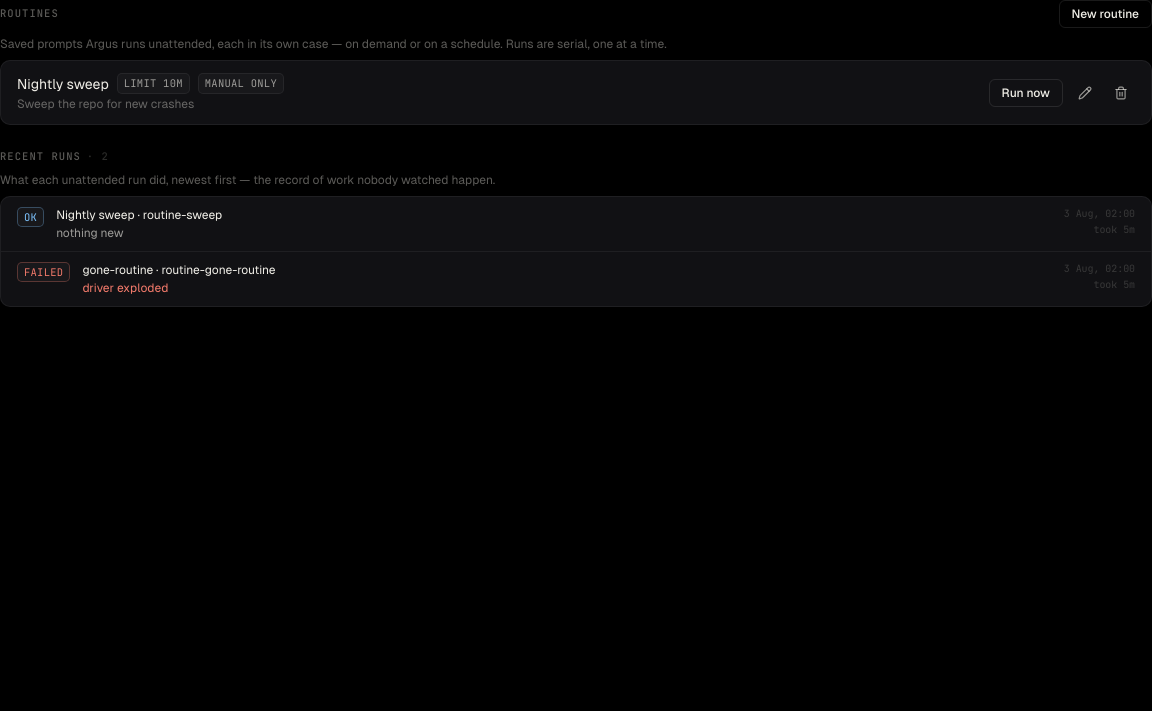
RoutinesPage — schedule editor › round-trips an existing weekly schedule’s stored time unchanged
Expected: the text "Nightly sweep" is shown, [17, 76, 109, 92]
Click the button named "edit · Nightly sweep". click: (1085, 92)
box: [1071, 78, 1099, 106]
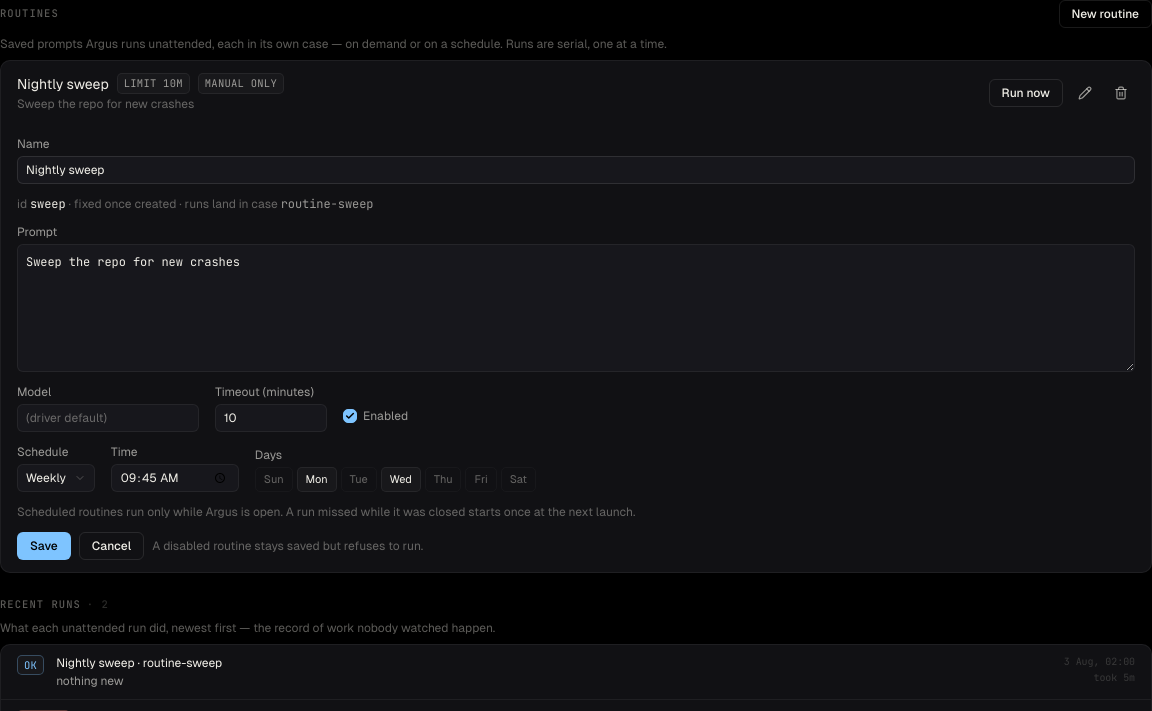
Expected: the dropdown named "Schedule" reads "Weekly", [17, 464, 95, 492]
Expected: the time field labelled "Time" holds "09:45", [111, 464, 239, 492]
